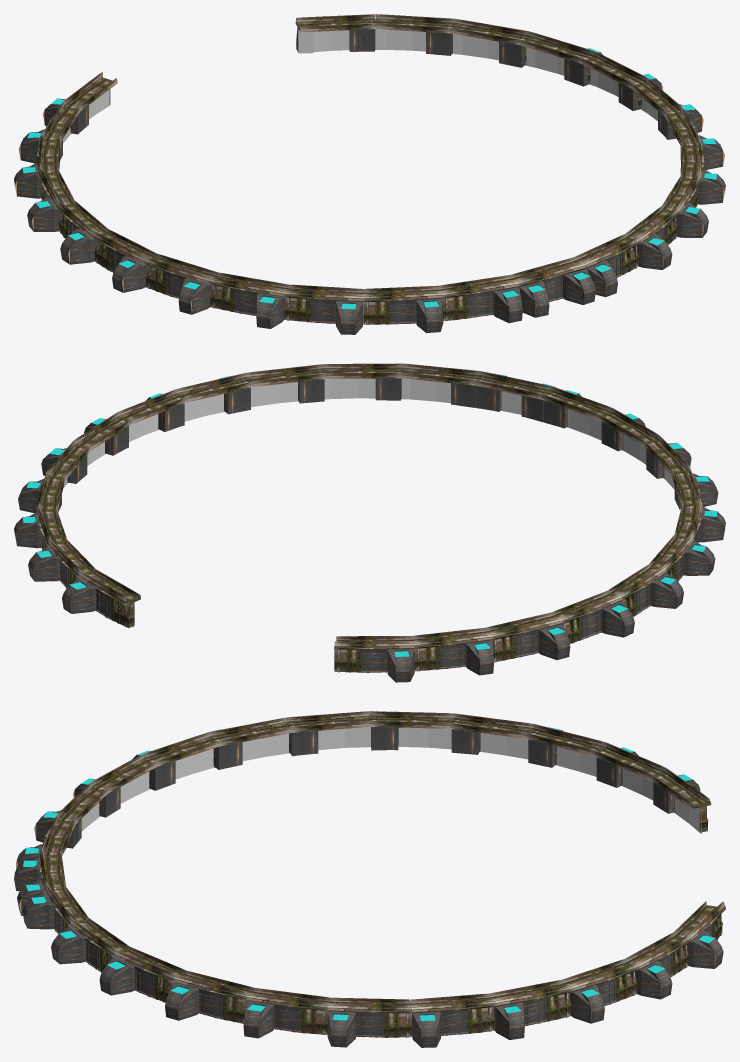
File: wallattempt16blend.fbx
3 views of the same model, one above another, from view 1: azimuth 30°, elevation 25°; view 2: azimuth 150°, elevation 25°; view 3: azimuth 270°, elevation 25° (orthographic). The views are drawn at different scales.
Visible parts, largest first — view 1: Plane.001, Plane.002; view 2: Plane.001, Plane.002; view 3: Plane.001, Plane.002.
Boxes of the visible parts, <box> form: Plane.001: <box>14,14,725,334</box>; Plane.002: <box>63,27,657,322</box>; Plane.001: <box>14,363,725,682</box>; Plane.002: <box>63,378,674,669</box>; Plane.001: <box>14,711,725,1047</box>; Plane.002: <box>63,727,701,1036</box>.
Size of the model in its own units: 5391 by 267 by 5117.
